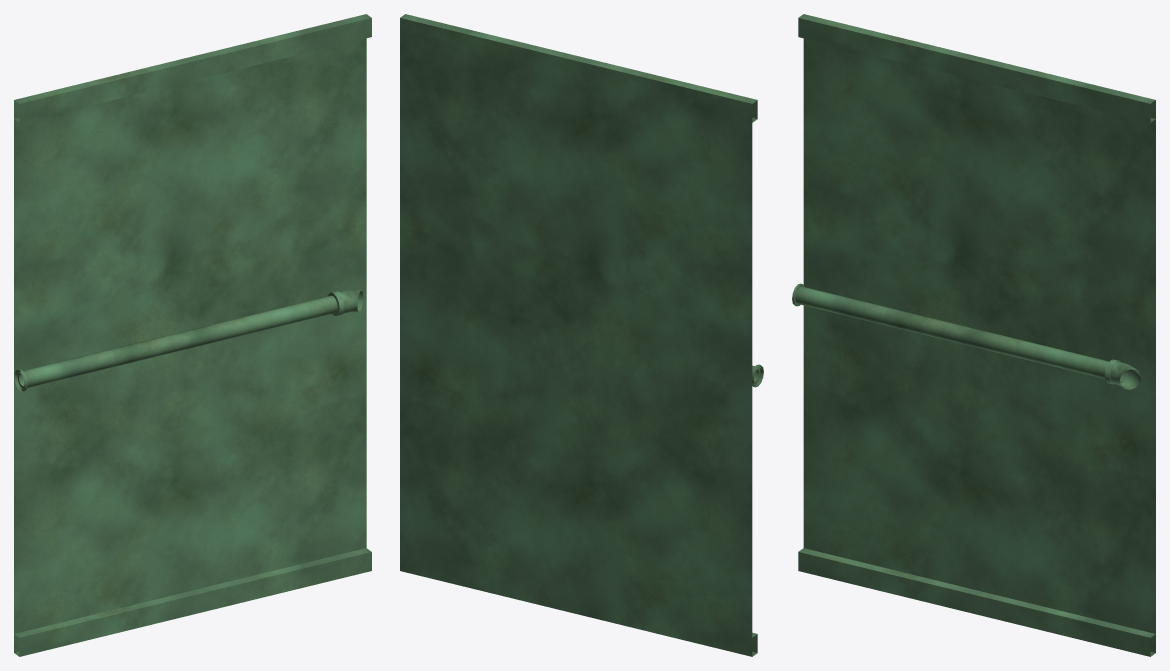
File: Wall_LowerDeck_Middle_Corner1.FBX
3 renders of one model, left to right at view 1: azimuth 30°, elevation 25°; view 2: azimuth 150°, elevation 25°; view 3: azimuth 330°, elevation 25°, orthographic.
Parts seen in each view (by area): view 1: Plane016; view 2: Plane016; view 3: Plane016.
Part boxes in pixels (x1=…): Plane016: x1=14, y1=14, x2=371, y2=656; Plane016: x1=400, y1=14, x2=763, y2=656; Plane016: x1=792, y1=14, x2=1155, y2=656.
Size of the model in its own units: 200 by 300 by 13.46.
